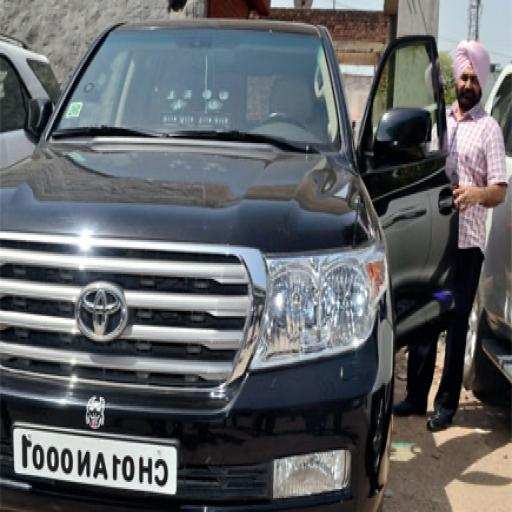License: (11, 424, 178, 493)
